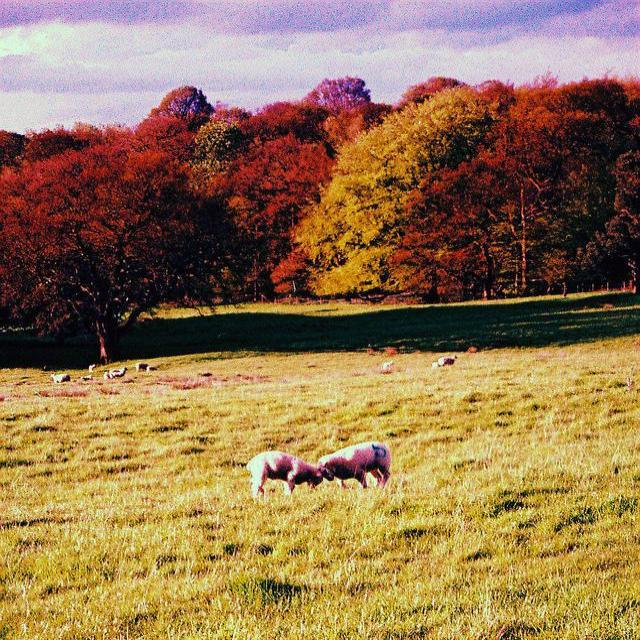Sheep: (247, 450, 324, 502), (318, 442, 392, 490)
